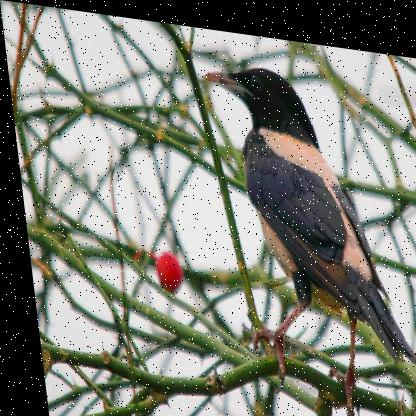Burung: (200, 52, 415, 415)
